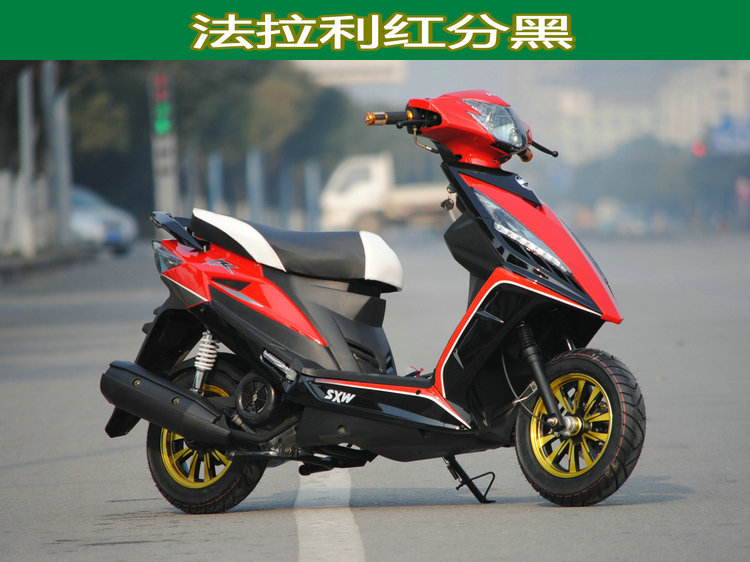电动车: (77, 86, 681, 531)
